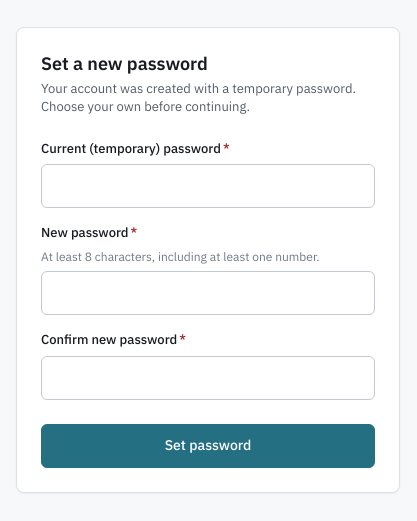
Change password page › rejects a new password with no digit
Type "temp-pass" into the password field labelled "Current (temporary) password*" at (208,186), box [41,164,375,208]
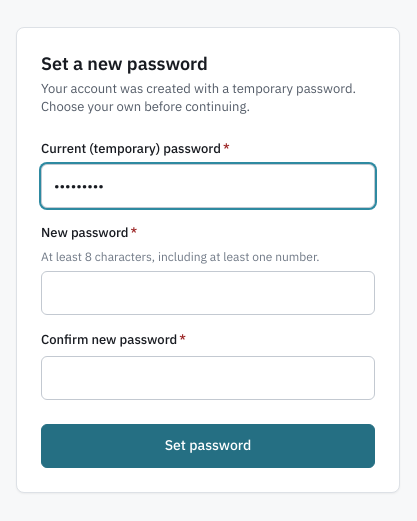
Type "nodigitshere" into the password field labelled "New password*" at (208,293), box [41,271,375,315]
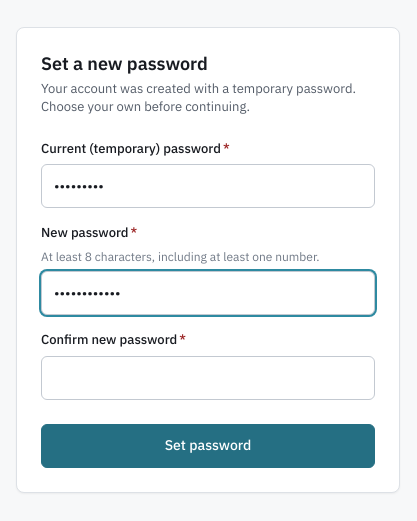
Type "nodigitshere" into the password field labelled "Confirm new password*" at (208,378), box [41,356,375,400]
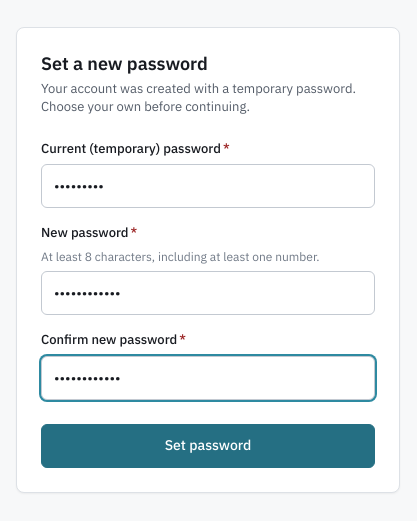
Click the button "Set password" at (208,446), box [41,424,375,468]
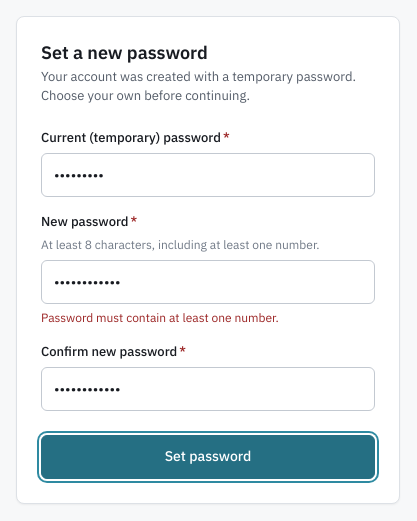
Check: the text "Password must contain at least one number." is shown, box [41,310,279,325]
